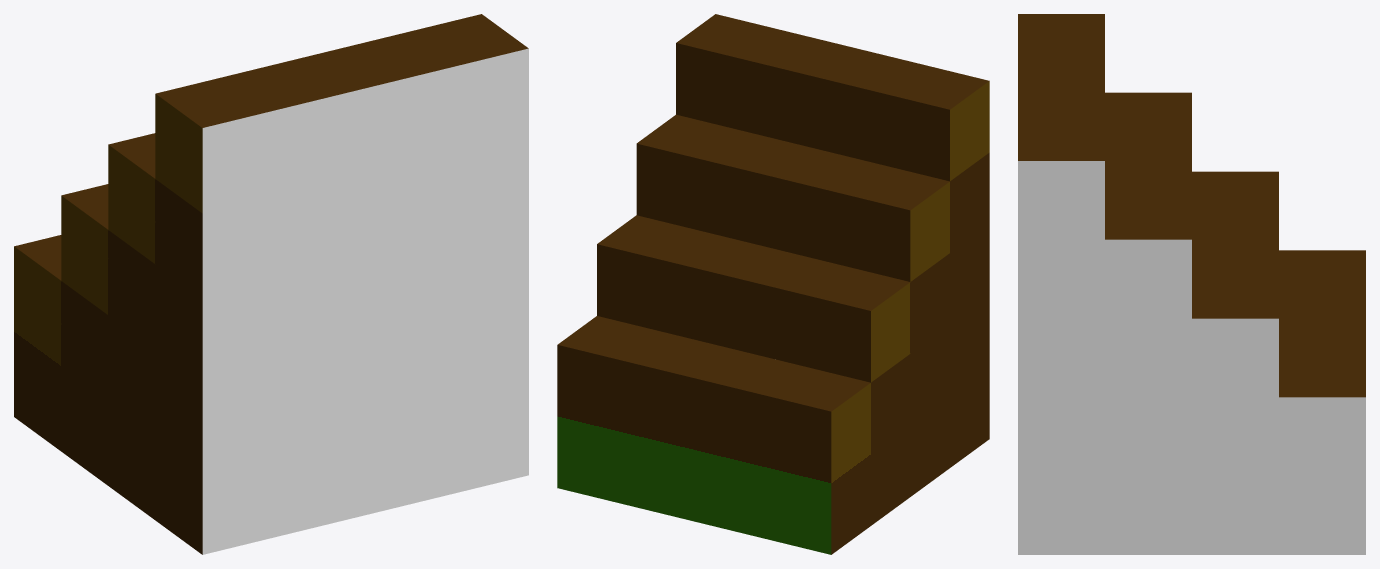
File: block_3.fbx
The picture shows the model from 3 angles, left to right: view 1: azimuth 30°, elevation 25°; view 2: azimuth 150°, elevation 25°; view 3: azimuth 270°, elevation 25°; orthographic projection. The views are drawn at different scales.
Visible parts, largest first — view 1: Box; view 2: Box; view 3: Box.
Boxes of the visible parts, left/top/right/bottom form: Box: left=14, top=14, right=528, bottom=554; Box: left=557, top=14, right=989, bottom=554; Box: left=1018, top=14, right=1365, bottom=554.
Bounding box in the file's own units: 4 × 4 × 5.
1 material, 1 textured.
